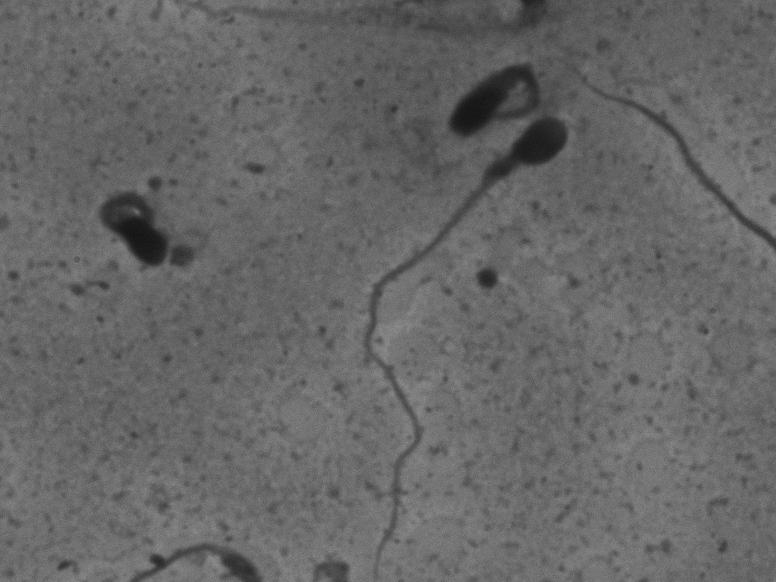Abnormal: (57, 146, 210, 291), (439, 47, 548, 151)
Normal: (341, 106, 578, 576)
